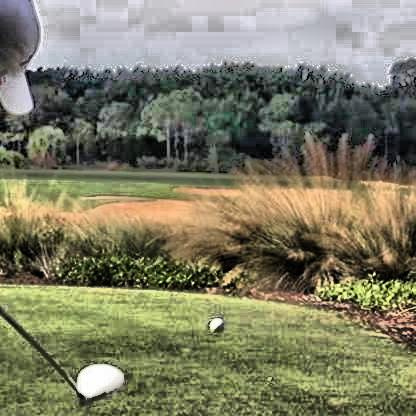golfball: (207, 314, 222, 330)
